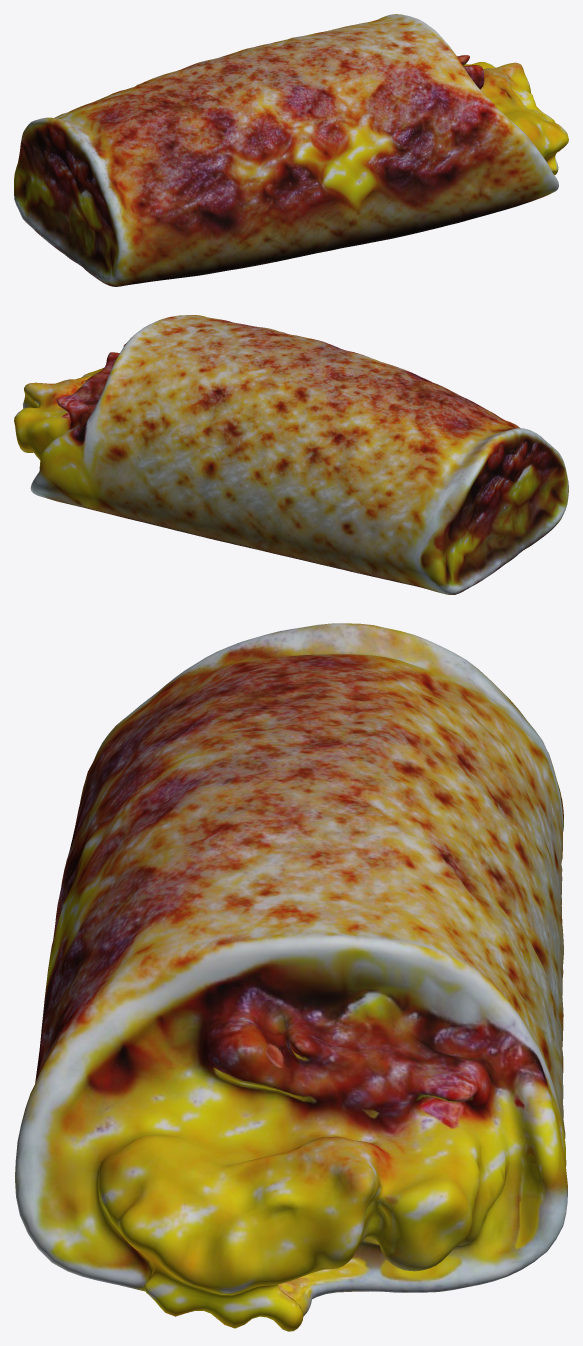
Rendered from burnt_egg_burrito.glb.
3 views of the same model, one above another, from view 1: azimuth 30°, elevation 25°; view 2: azimuth 150°, elevation 25°; view 3: azimuth 270°, elevation 25° (orthographic). The views are drawn at different scales.
Visible parts, largest first — view 1: Object_2; view 2: Object_2; view 3: Object_2.
Boxes of the visible parts, <box> form: Object_2: <box>14,14,568,286</box>; Object_2: <box>14,315,568,594</box>; Object_2: <box>15,623,567,1331</box>.
Bounding box in the file's own units: 0.999 × 0.3202 × 0.502.
Materials: 1 (1 with a texture image).
